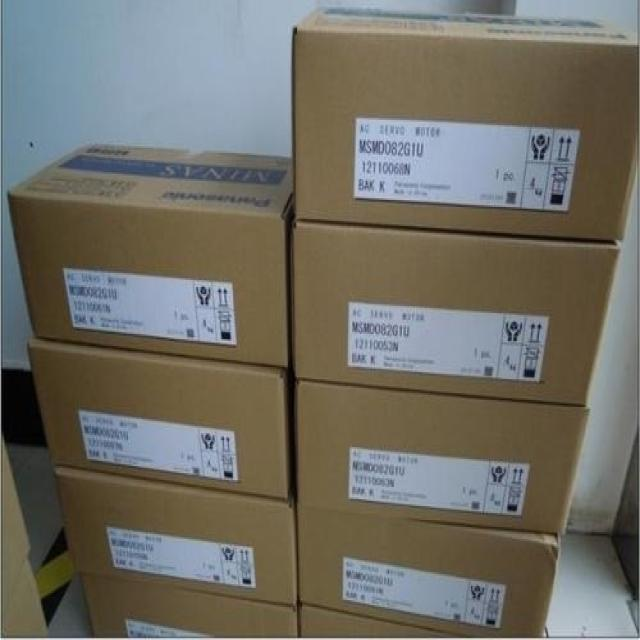box: (291, 5, 639, 241), (6, 144, 293, 366), (293, 219, 620, 404), (296, 382, 591, 536), (28, 333, 288, 500), (296, 508, 560, 635), (54, 470, 299, 604), (81, 580, 299, 638), (298, 604, 461, 636)
